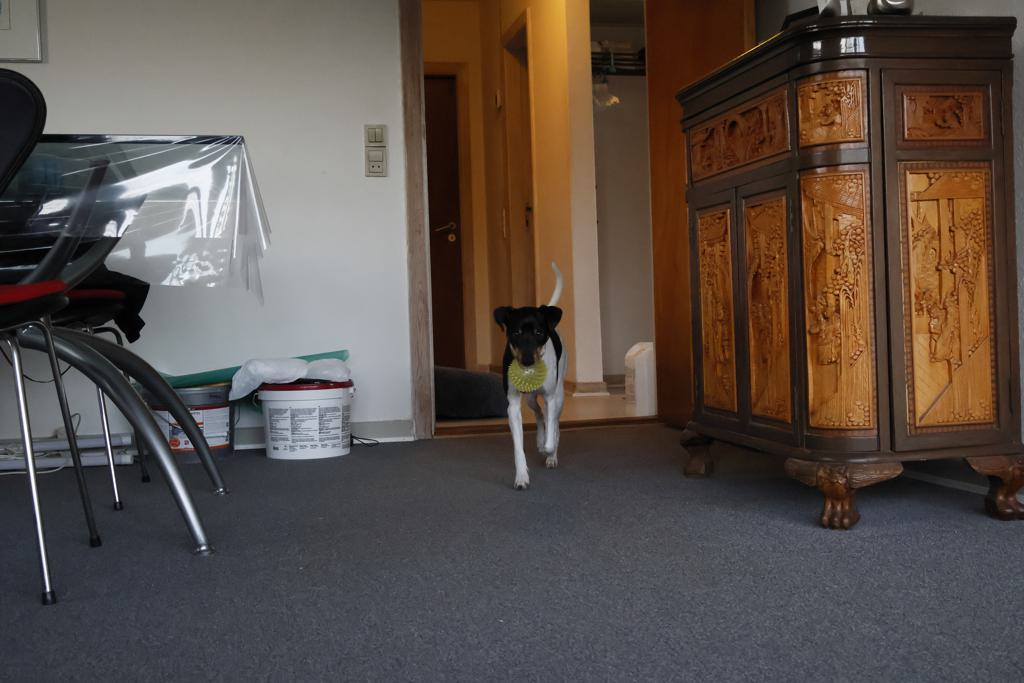Dog: (481, 256, 594, 497)
